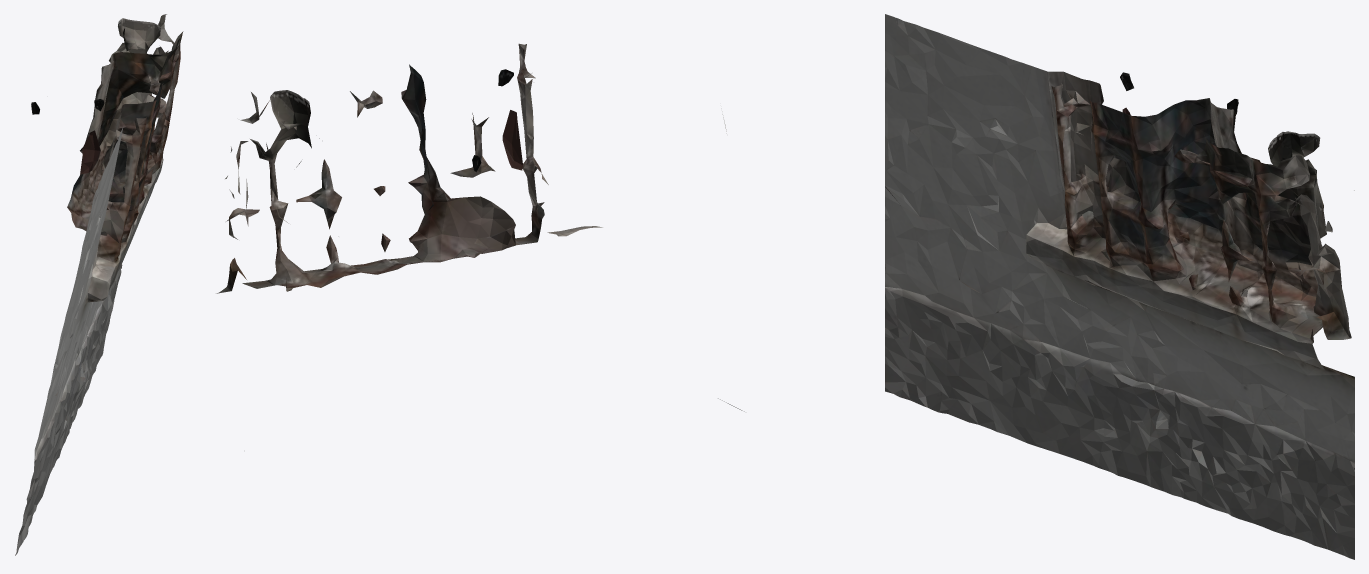
3 views of the same model, side by side, from view 1: azimuth 30°, elevation 25°; view 2: azimuth 150°, elevation 25°; view 3: azimuth 270°, elevation 25° (orthographic). The views are drawn at different scales.
Bounding box in the file's own units: 1.64 × 1.67 × 1.67.
5 materials, 5 textured.
